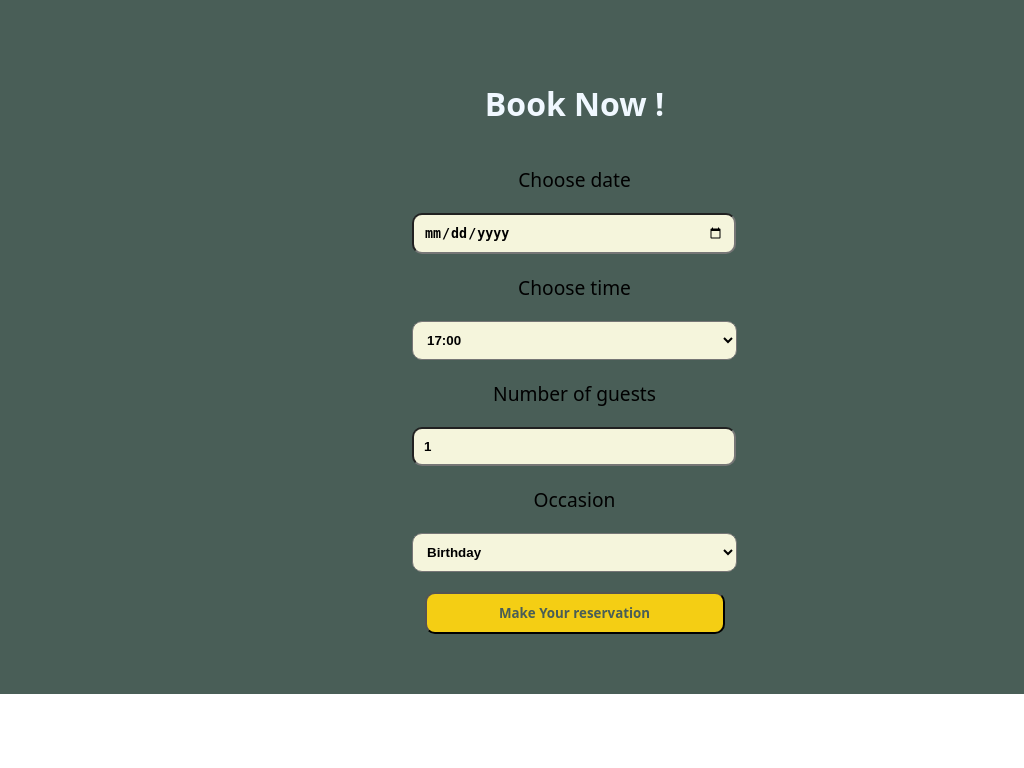
Booking date entered
Click the button "Make Your reservation": (574, 613) [424,592,724,634]
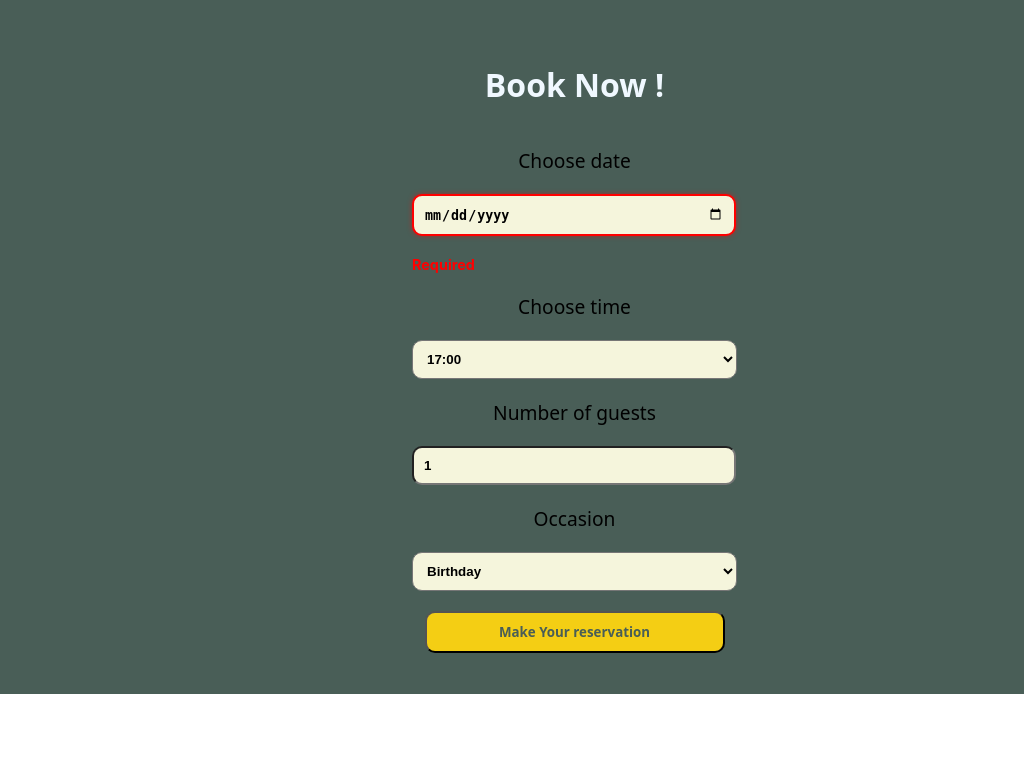
Now the text "Required" is shown, box [412,256,475,273]
